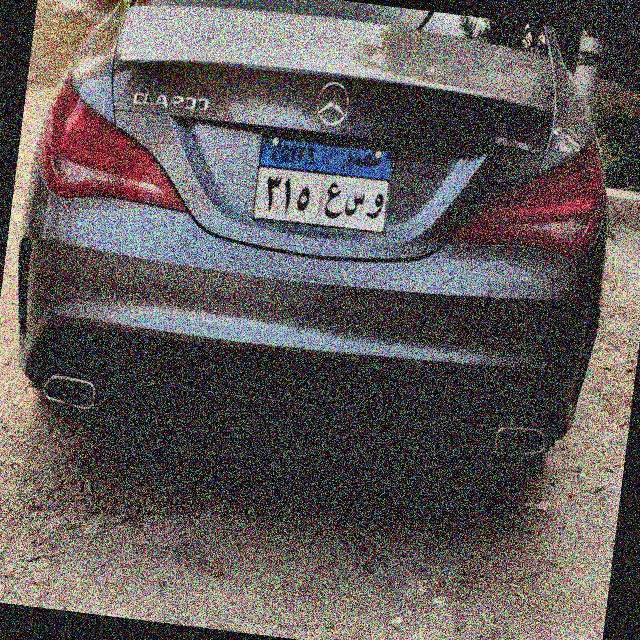License Plate: (247, 129, 400, 242)
